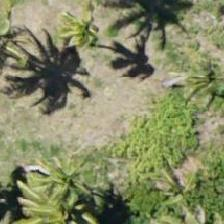coconut_tree: (18, 164, 108, 223)
